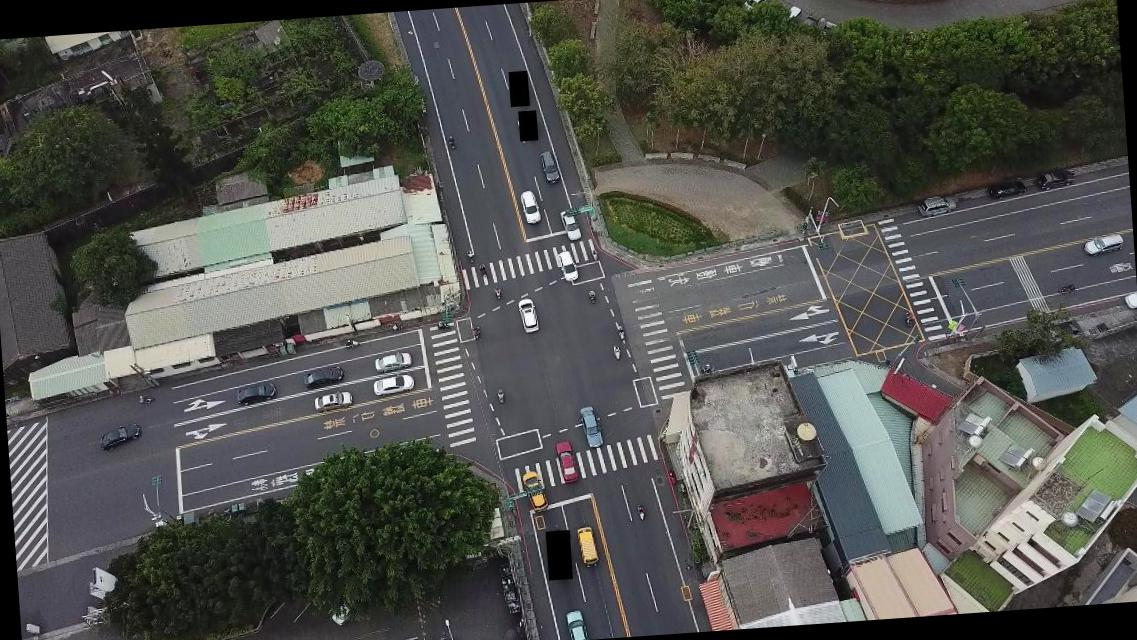vehicle: (97, 419, 142, 450), (554, 438, 581, 484), (520, 469, 548, 512), (579, 404, 605, 449), (916, 192, 959, 218), (234, 381, 278, 406), (576, 524, 600, 568), (372, 372, 416, 396), (302, 364, 344, 388), (372, 348, 414, 372), (1082, 232, 1124, 256), (1037, 167, 1076, 192), (988, 178, 1028, 202), (562, 608, 592, 639), (312, 389, 354, 411), (518, 190, 542, 224), (516, 298, 538, 334), (560, 209, 583, 242), (557, 250, 580, 282), (331, 593, 354, 625), (540, 150, 560, 184), (740, 0, 773, 11)
